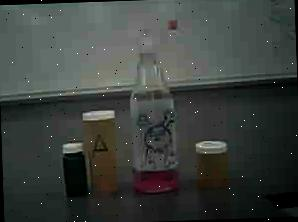Bottle A: (80, 108, 123, 198)
Bottle B: (193, 135, 234, 192)
Bottle C: (60, 142, 86, 201)
hazard: (125, 11, 189, 199)
